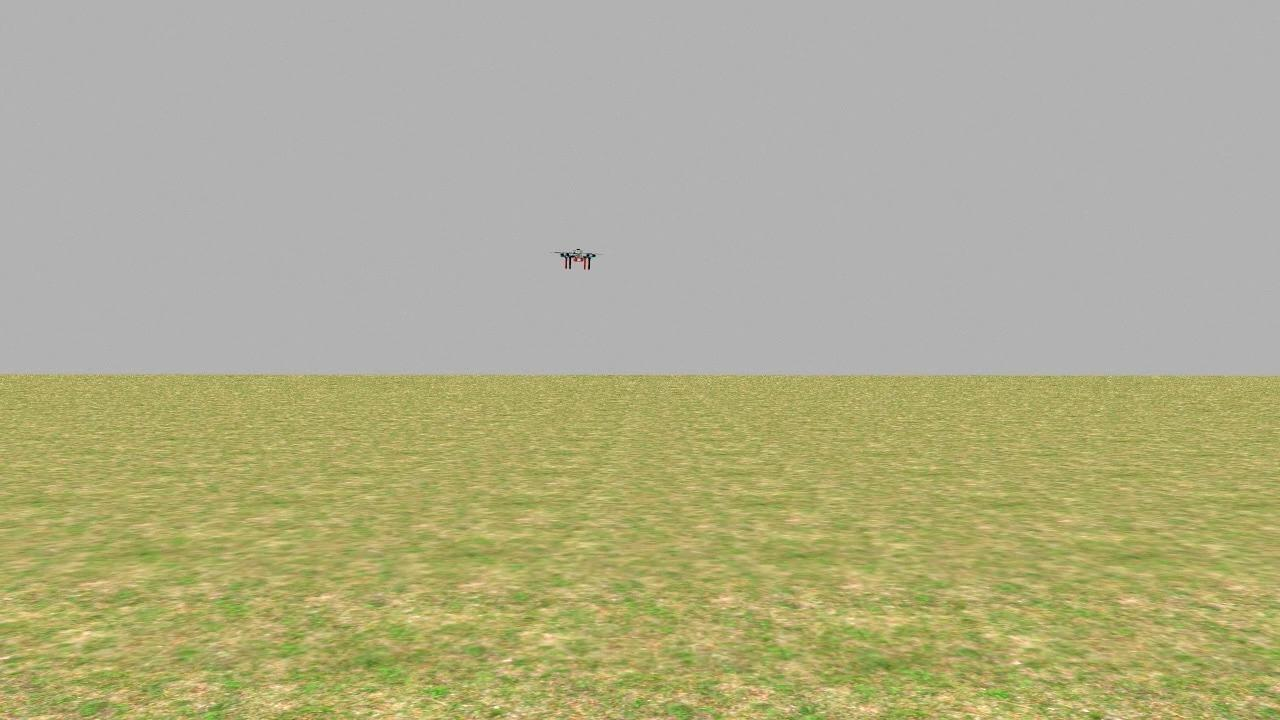UAV: (555, 242, 599, 280)
